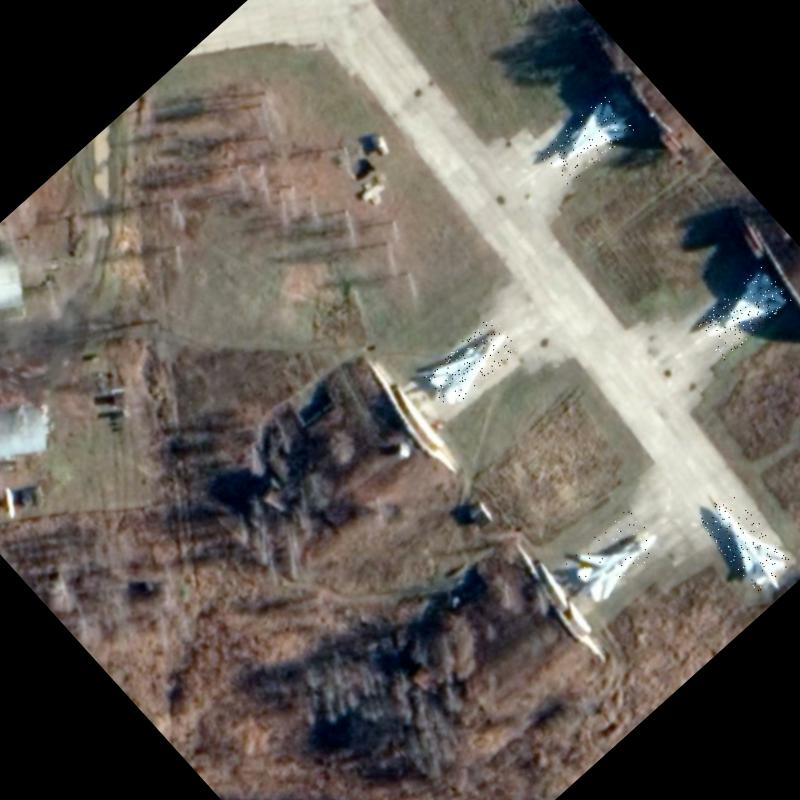A20: (560, 504, 666, 608), (694, 489, 793, 592), (421, 314, 520, 411), (693, 264, 792, 360), (536, 94, 635, 188)
